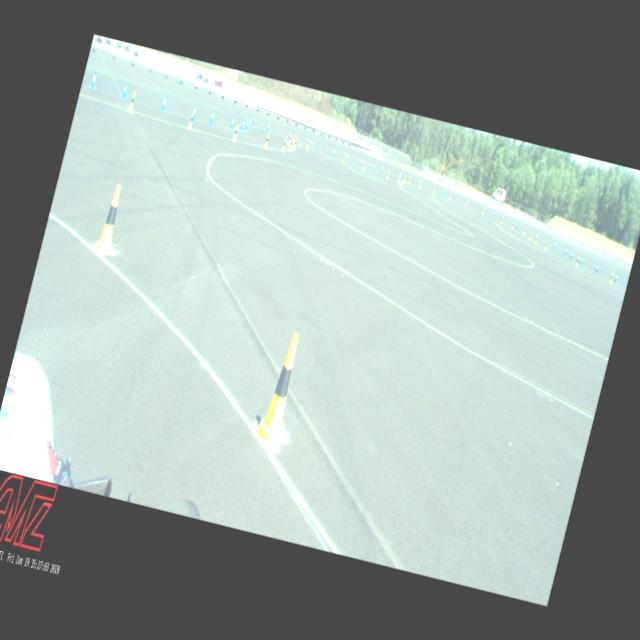blue_cone: (120, 80, 130, 98), (89, 70, 98, 88), (160, 94, 168, 111), (208, 109, 216, 124), (191, 104, 198, 120), (229, 115, 236, 128), (240, 117, 246, 130), (612, 272, 618, 282), (244, 117, 249, 129), (568, 249, 573, 260), (248, 116, 253, 127), (246, 119, 250, 131), (595, 263, 599, 273), (346, 152, 350, 162), (309, 138, 313, 148), (578, 254, 582, 264), (266, 121, 270, 131), (368, 160, 372, 170), (563, 246, 567, 255), (359, 157, 363, 166), (380, 164, 384, 173), (332, 148, 336, 156), (372, 162, 376, 170), (552, 240, 556, 248), (490, 210, 494, 218), (514, 221, 518, 229), (287, 130, 291, 138), (399, 172, 401, 178), (442, 188, 444, 194), (466, 200, 468, 206)
yellow_cone: (251, 328, 311, 452), (91, 182, 128, 256), (126, 90, 138, 112), (187, 110, 196, 130), (232, 124, 240, 141), (263, 132, 271, 148), (280, 136, 288, 152), (288, 136, 296, 152), (292, 136, 298, 150), (608, 272, 614, 284), (287, 134, 293, 146), (574, 255, 580, 266), (341, 152, 346, 164), (527, 230, 532, 240), (543, 240, 548, 250), (463, 198, 468, 208), (306, 138, 310, 150), (396, 174, 401, 183), (533, 234, 538, 243), (362, 160, 366, 171), (292, 133, 296, 144), (511, 220, 515, 230), (386, 169, 390, 179), (406, 176, 411, 184), (521, 227, 525, 236), (500, 214, 504, 223), (432, 184, 436, 193), (418, 179, 422, 188), (448, 192, 452, 200), (481, 207, 485, 214), (402, 175, 406, 182)
